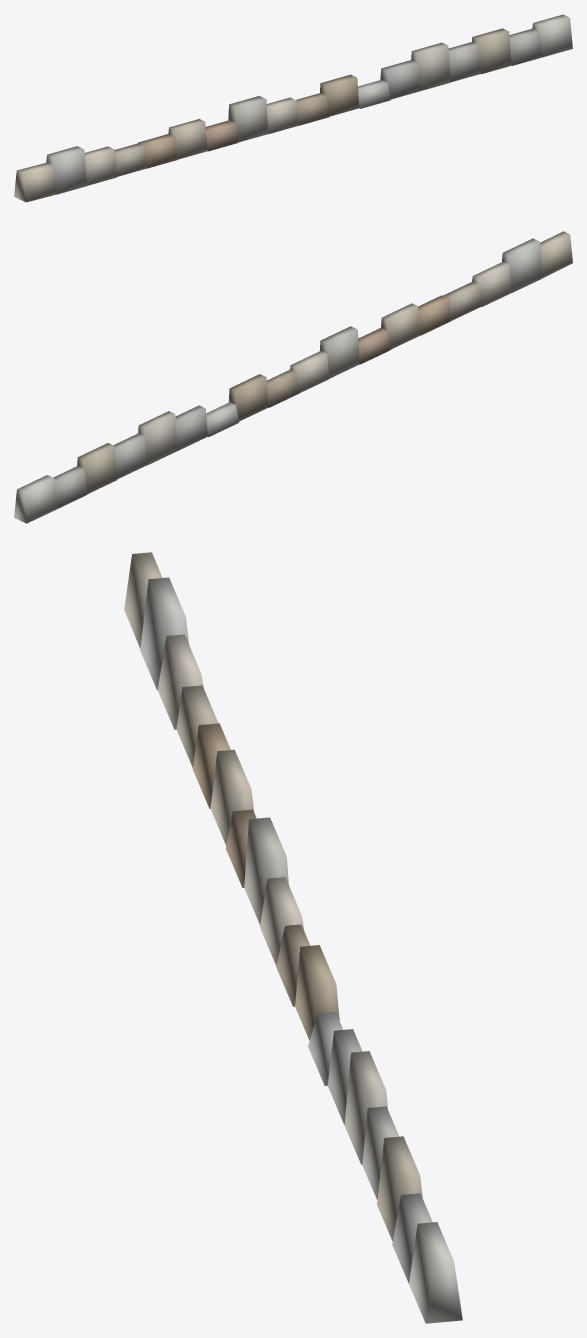
File: farm_14_0_collision.glb
The picture shows the model from 3 angles, top to bottom: view 1: azimuth 30°, elevation 25°; view 2: azimuth 210°, elevation 25°; view 3: azimuth 270°, elevation 25°; orthographic projection. The views are drawn at different scales.
Parts seen in each view (by area): view 1: geometry_0; view 2: geometry_0; view 3: geometry_0.
Boxes of the visible parts, x1,y1,x2,y2 form: geometry_0: (14,14,572,202); geometry_0: (14,231,572,523); geometry_0: (124,552,462,1323).
Size of the model in its own units: 27.95 by 3.64 by 6.55.
